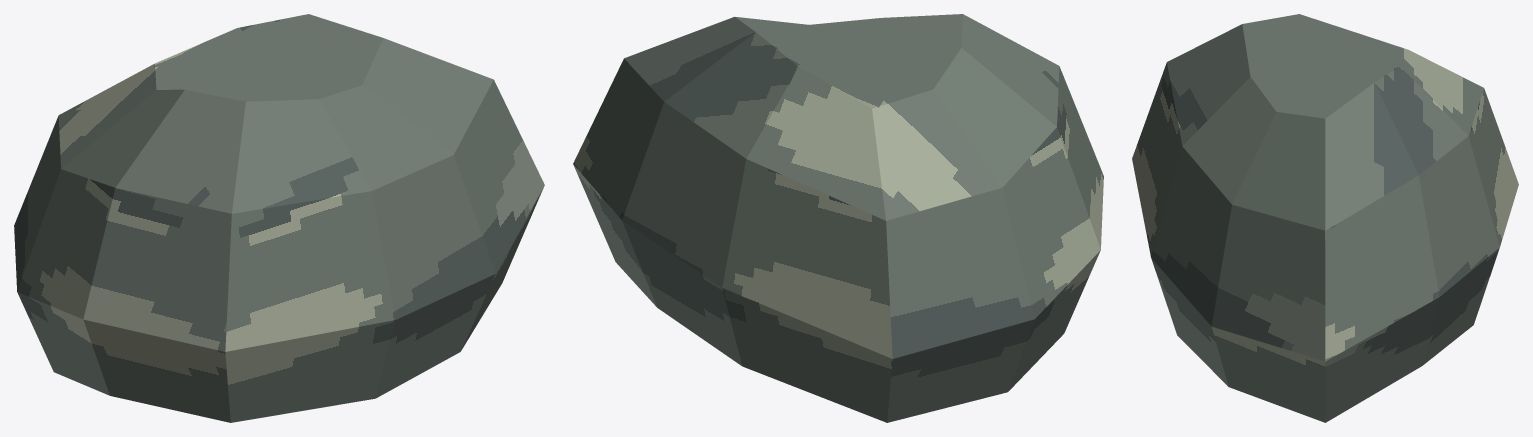
The model's file is rock-natural.glb.
The picture shows the model from 3 angles, left to right: view 1: azimuth 30°, elevation 25°; view 2: azimuth 150°, elevation 25°; view 3: azimuth 270°, elevation 25°; orthographic projection. The views are drawn at different scales.
Visible parts, largest first — view 1: rock-natural runtime mesh; view 2: rock-natural runtime mesh; view 3: rock-natural runtime mesh.
Boxes of the visible parts, box(x1,y1,x2,y2) form: rock-natural runtime mesh: box(14, 14, 544, 422); rock-natural runtime mesh: box(573, 14, 1103, 422); rock-natural runtime mesh: box(1132, 14, 1518, 422).
Bounding box in the file's own units: 1.11 × 0.6395 × 0.8238.
1 material, 1 textured.
